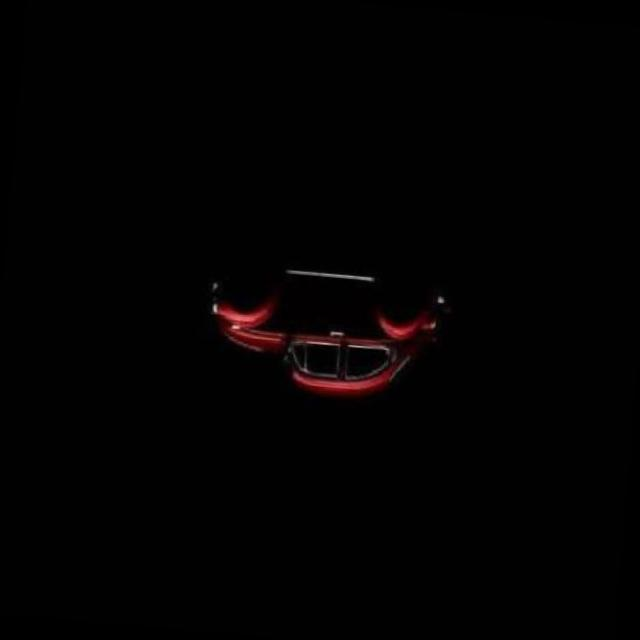car: (208, 239, 457, 399)
